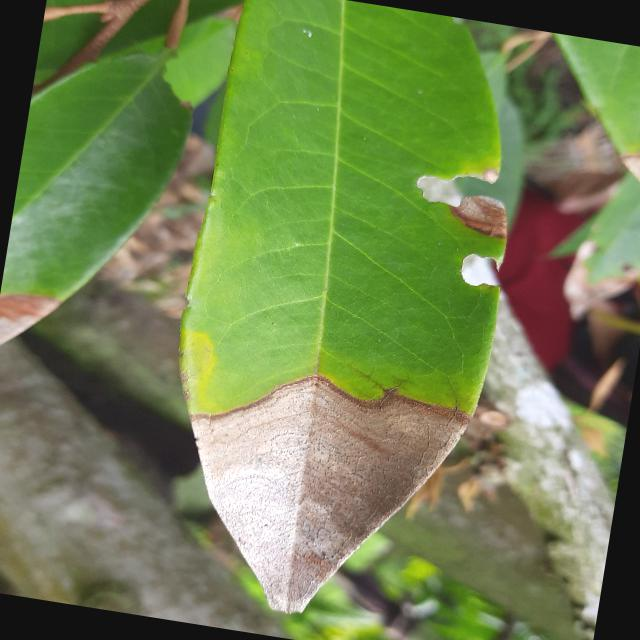Leaf Blight: (136, 0, 554, 639)
